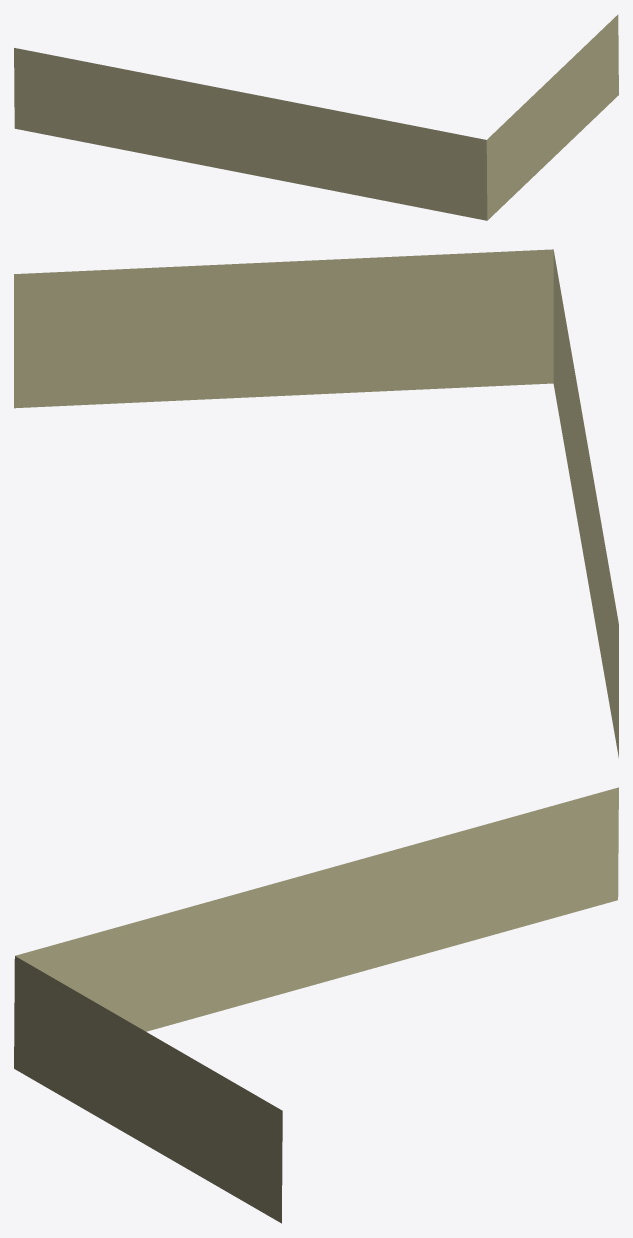
Rendered from book2_material.013_0_lev1.glb.
3 views of the same model, one above another, from view 1: azimuth 30°, elevation 25°; view 2: azimuth 150°, elevation 25°; view 3: azimuth 270°, elevation 25° (orthographic). The views are drawn at different scales.
Parts seen in each view (by area): view 1: book2_material.013_0_lev1; view 2: book2_material.013_0_lev1; view 3: book2_material.013_0_lev1.
Part boxes in pixels (box(x1,y1,x2,y2)): book2_material.013_0_lev1: box(14, 14, 618, 220); book2_material.013_0_lev1: box(14, 249, 618, 757); book2_material.013_0_lev1: box(14, 787, 618, 1223).
Size of the model in its own units: 21.17 by 3.54 by 16.44.
